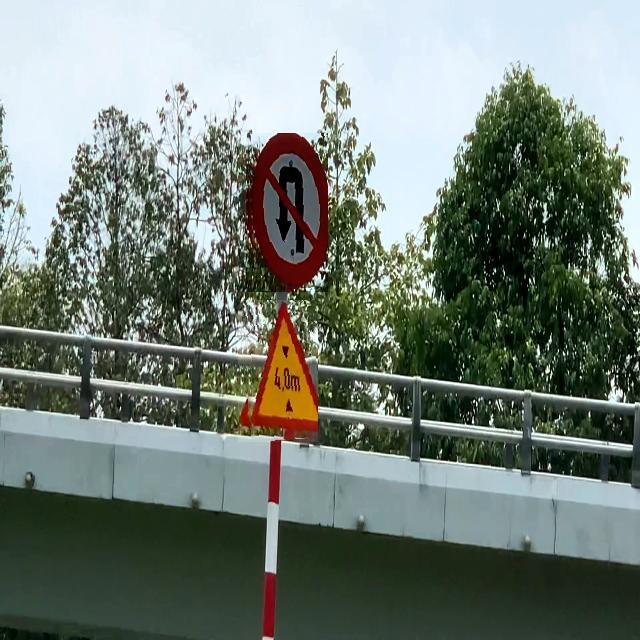bien_nguy_hiem: (246, 133, 328, 292), (238, 300, 318, 442)
